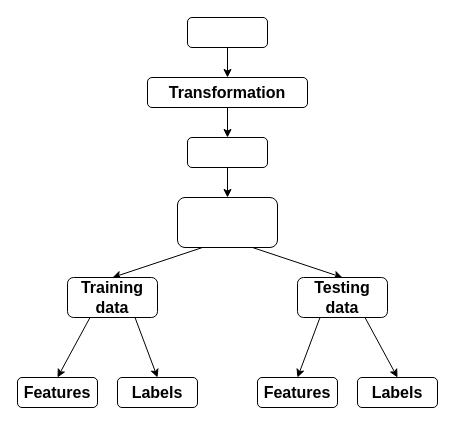
The diagram is 455 pixels wide and 425 high, and some of its shapes have lost their labels. The box of each missing label's shape, as (x1, y1, x2, y2) in pixels:
Cleaning: (186, 136, 268, 168)
Data: (186, 16, 268, 48)
Features selection: (176, 196, 278, 248)
